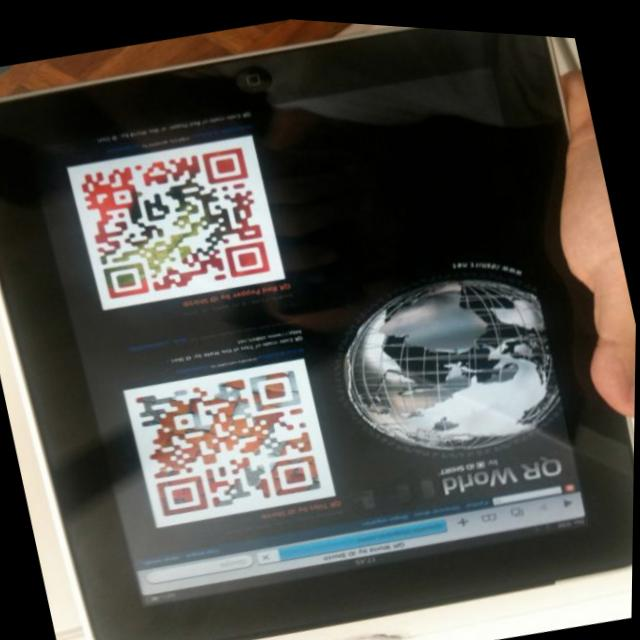qrcode: (78, 134, 272, 306), (134, 357, 324, 523)
